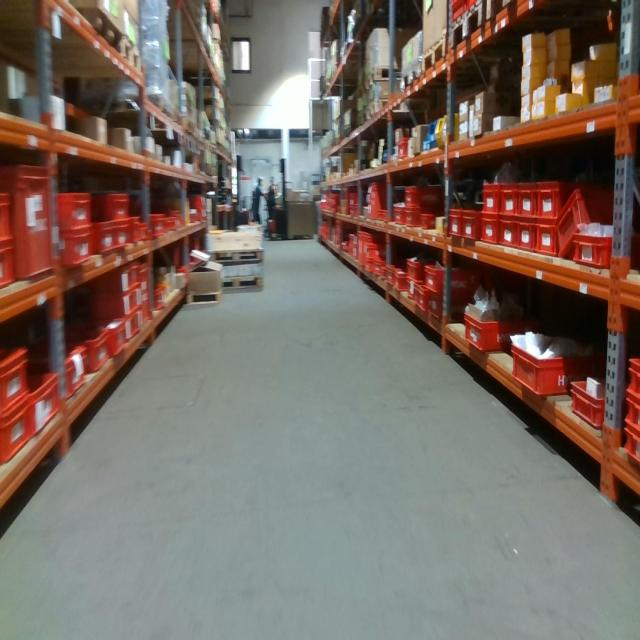pallet: (0, 18, 124, 69), (449, 1, 486, 57), (99, 37, 144, 81), (422, 27, 450, 77), (485, 1, 532, 26), (221, 270, 264, 297), (361, 64, 402, 91), (210, 244, 264, 262), (363, 98, 402, 122), (399, 63, 421, 96)
pallet_truck: (263, 146, 290, 243), (230, 146, 258, 227)
small_load_carrier: (8, 156, 62, 281), (554, 180, 623, 256), (513, 328, 574, 401), (464, 294, 512, 366), (3, 339, 38, 430), (28, 367, 63, 443), (58, 345, 90, 414), (565, 231, 616, 271), (565, 366, 601, 422), (2, 402, 33, 463), (69, 326, 106, 376), (423, 261, 480, 293), (90, 278, 132, 320), (97, 262, 140, 297), (68, 222, 96, 274), (368, 176, 398, 222), (101, 315, 124, 373), (61, 192, 94, 227), (535, 177, 562, 217), (403, 180, 440, 209), (139, 262, 153, 338), (100, 192, 132, 224), (619, 390, 640, 434), (537, 220, 560, 259), (1, 191, 17, 245), (429, 296, 459, 324), (1, 243, 20, 286), (113, 315, 133, 354), (496, 180, 518, 211), (516, 182, 537, 214), (357, 230, 374, 268), (95, 223, 117, 252), (461, 207, 479, 242), (481, 214, 500, 246), (624, 357, 639, 397), (405, 255, 423, 288), (502, 216, 520, 248), (483, 183, 500, 216), (622, 428, 638, 463), (514, 219, 531, 251), (113, 222, 129, 256), (393, 266, 409, 297), (405, 206, 422, 232), (375, 203, 393, 227), (449, 206, 462, 236), (407, 281, 421, 307), (391, 202, 406, 226), (421, 211, 436, 234), (152, 207, 163, 235), (418, 288, 428, 317), (131, 210, 141, 238), (375, 266, 390, 284), (129, 280, 139, 307), (362, 257, 375, 277), (377, 243, 389, 263), (397, 136, 407, 159), (451, 5, 466, 20), (387, 266, 396, 289), (130, 310, 137, 336), (364, 241, 375, 256), (466, 3, 478, 11), (141, 219, 145, 242), (382, 266, 389, 277)
